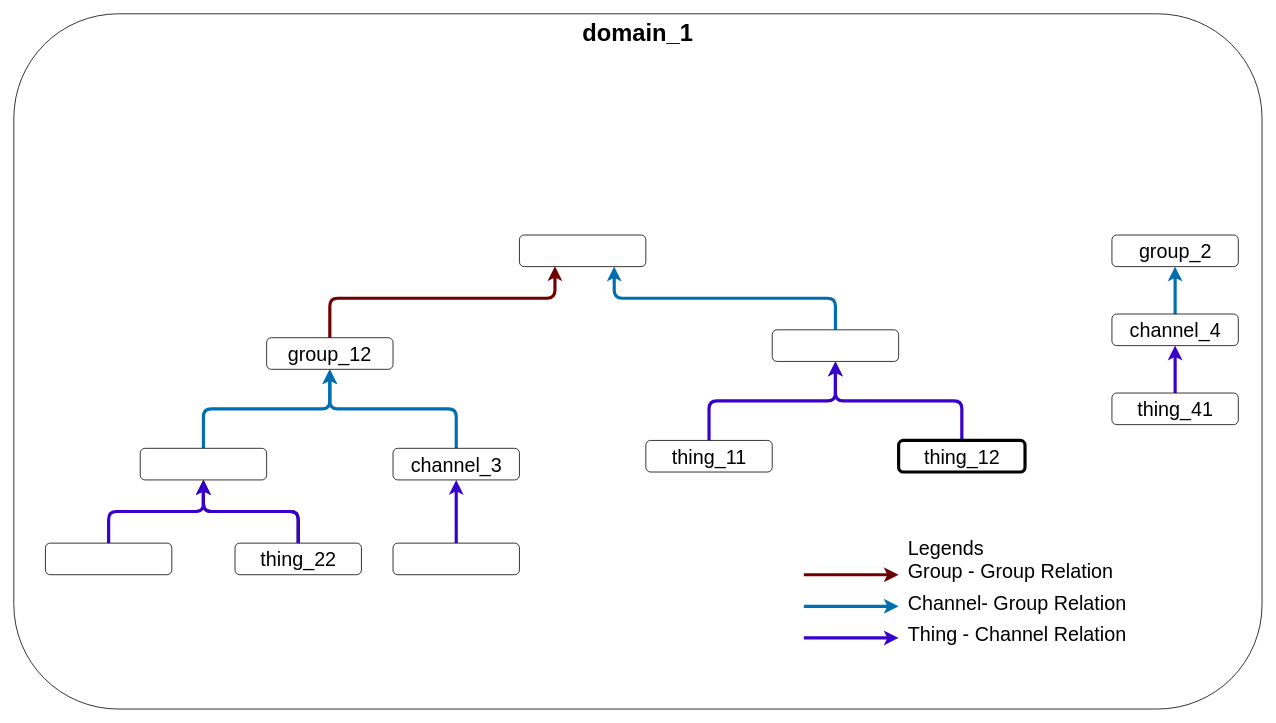
The diagram is 1276 pixels wide and 723 high, and some of its shapes have lost their labels. Each missing label, with the box of its shape:
channel_1: (771, 329, 899, 361)
channel_2: (139, 448, 267, 480)
group_1: (519, 234, 646, 267)
thing_21: (45, 542, 172, 575)
thing_31: (392, 542, 519, 575)
